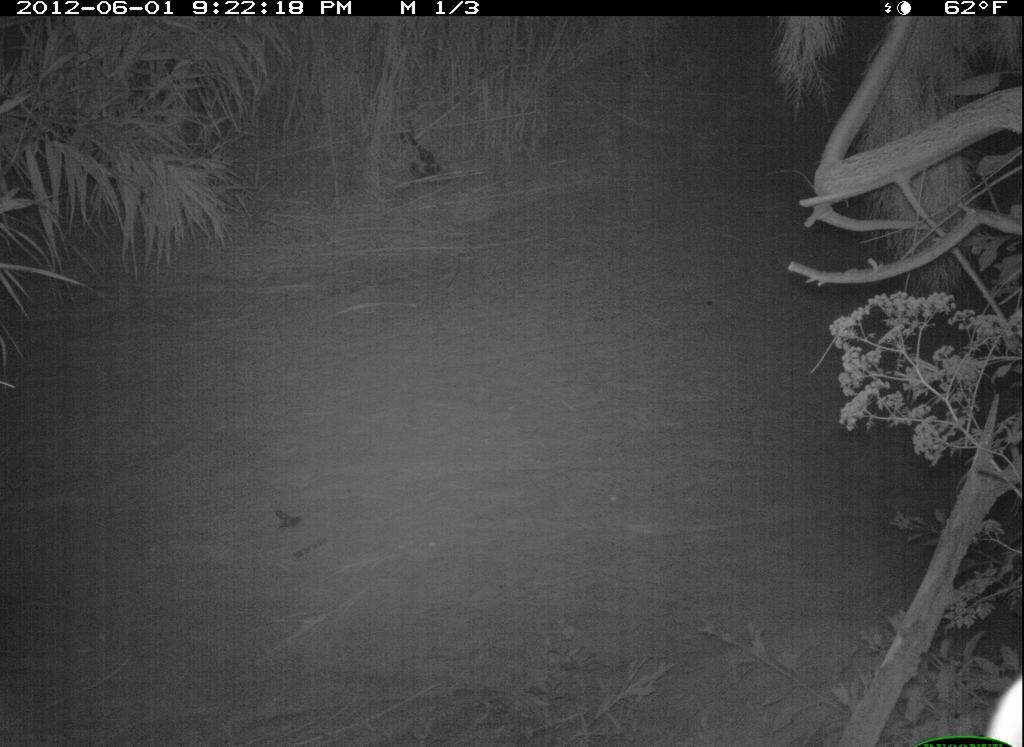raccoon: (378, 125, 452, 196)
